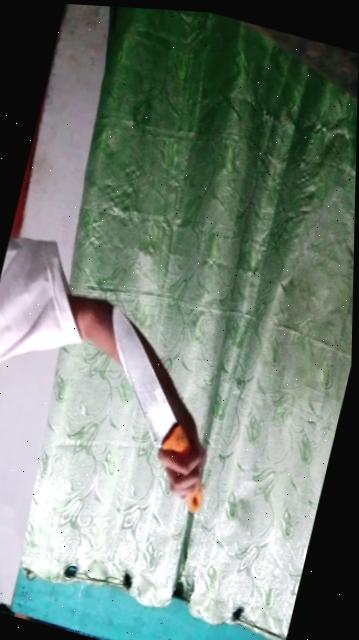long knife: (65, 286, 257, 513)
